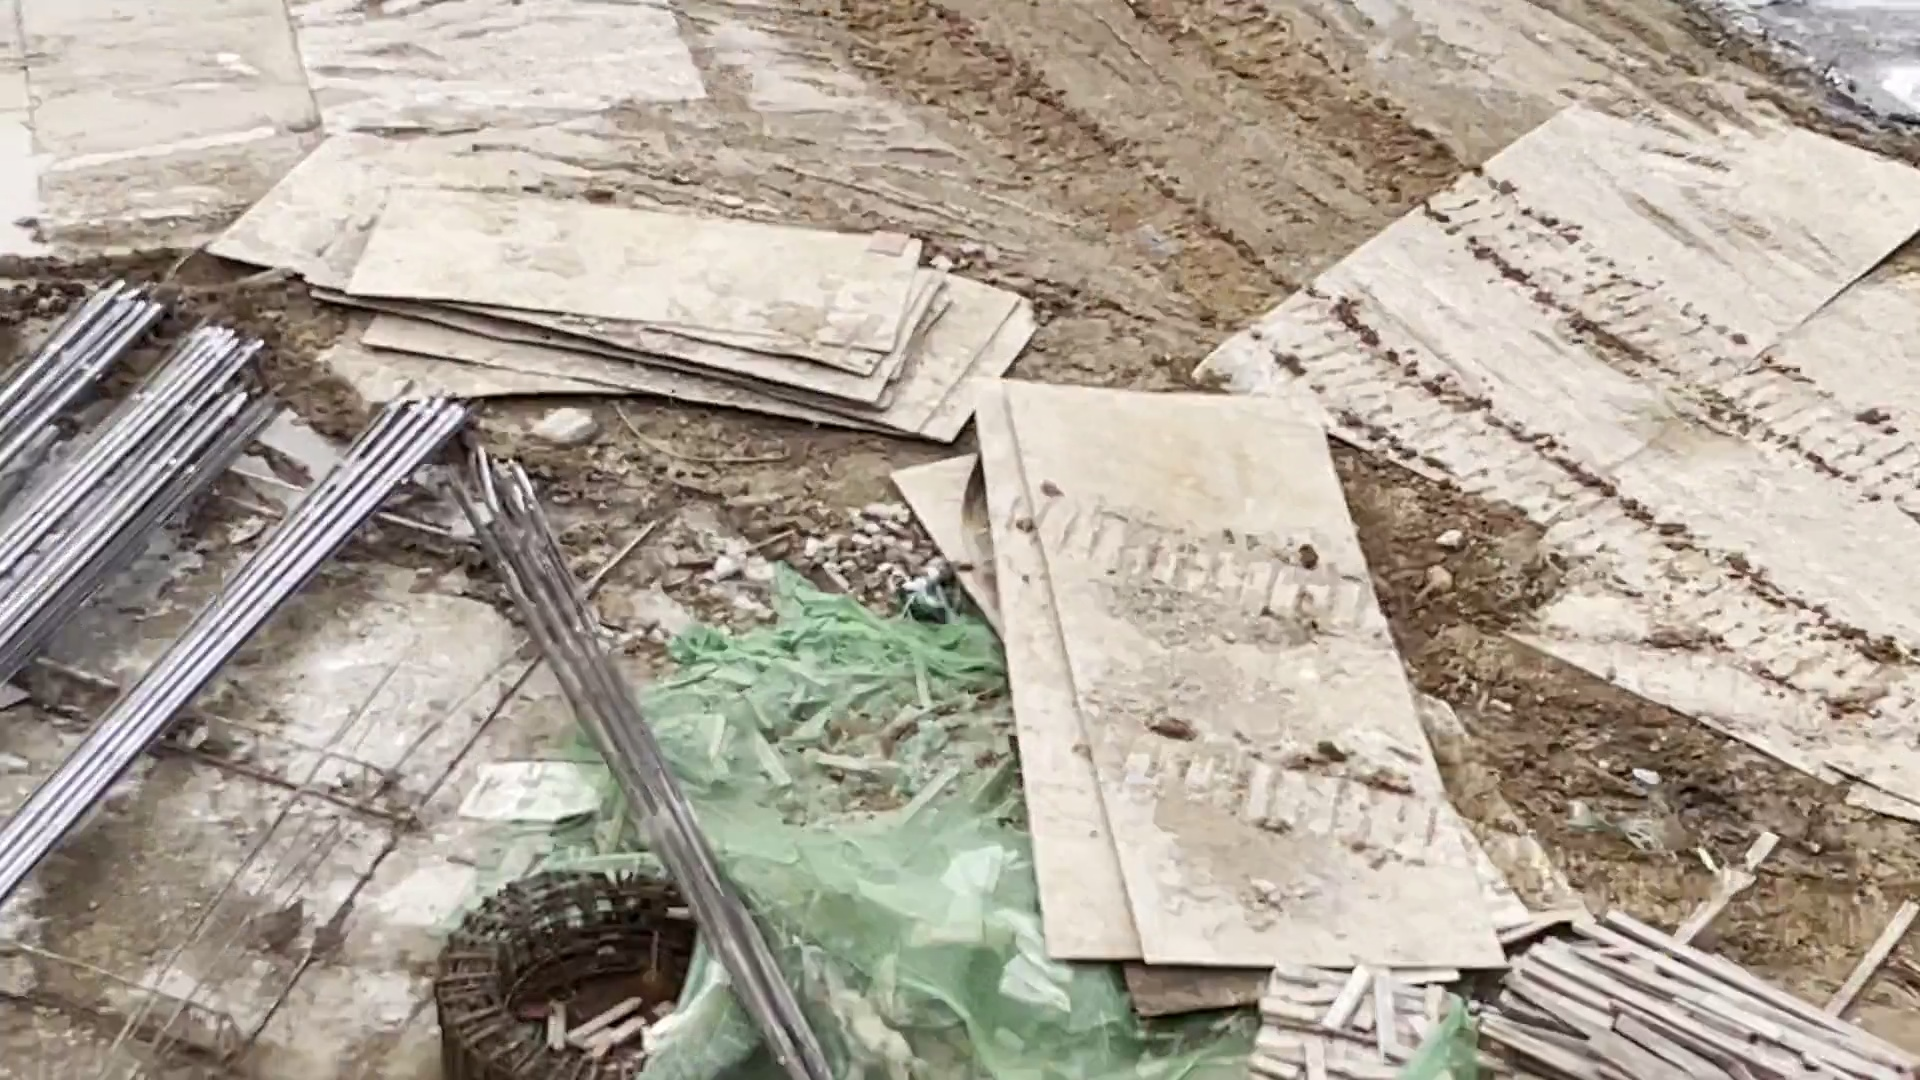rebar: (3, 273, 446, 913), (456, 452, 818, 1079)
wood: (1247, 968, 1418, 1080)
